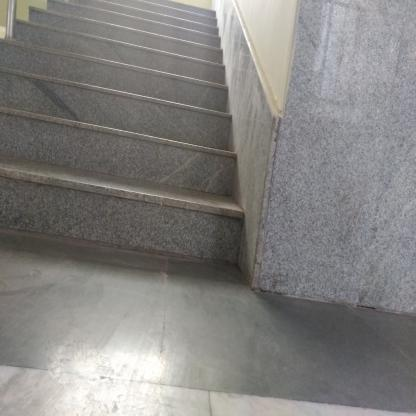stairs: (21, 16, 216, 293)
